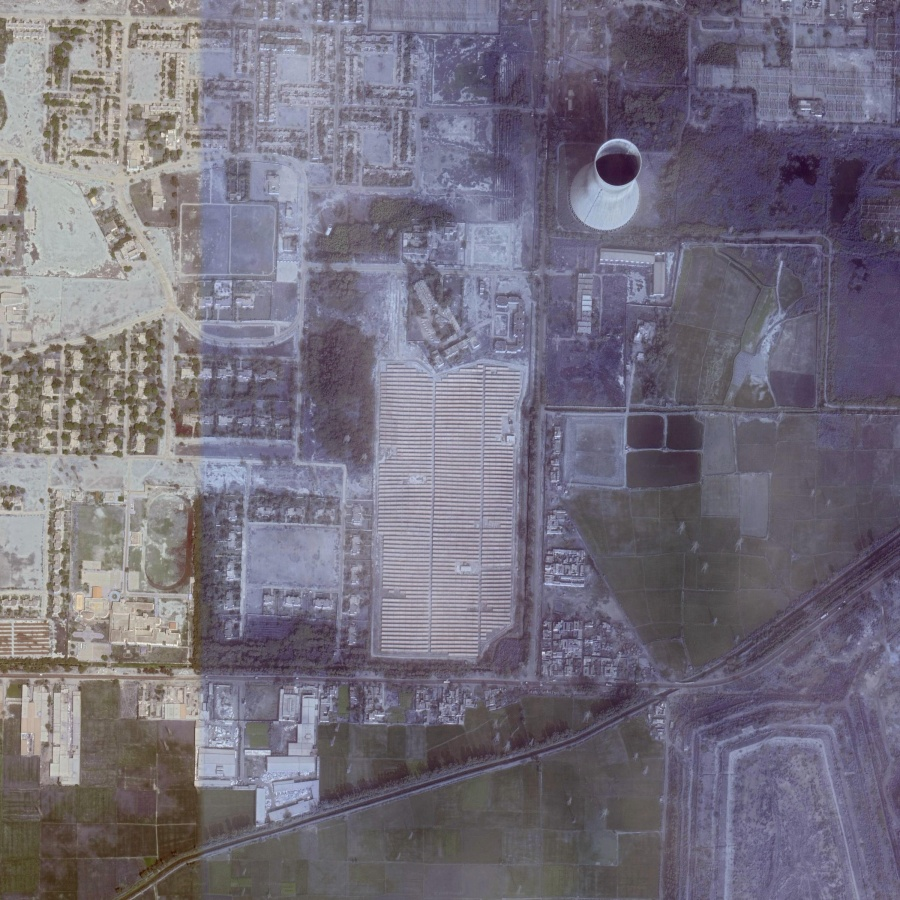PowerPlant: (550, 126, 794, 400)
